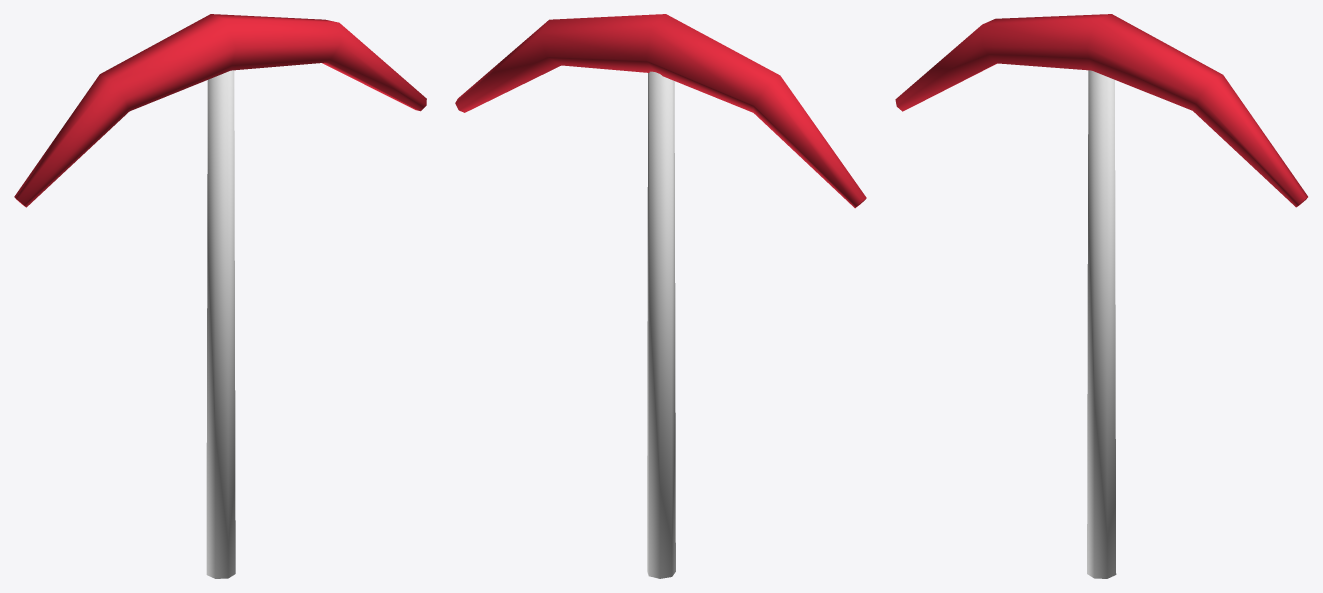
The model's file is adamantite_pickaxe.glb.
The picture shows the model from 3 angles, left to right: view 1: azimuth 30°, elevation 25°; view 2: azimuth 150°, elevation 25°; view 3: azimuth 330°, elevation 25°; orthographic projection.
Parts seen in each view (by area): view 1: adamantite_pickaxe_v0; view 2: adamantite_pickaxe_v0; view 3: adamantite_pickaxe_v0.
Boxes of the visible parts, x1,y1,x2,y2 form: adamantite_pickaxe_v0: [14, 14, 426, 578]; adamantite_pickaxe_v0: [455, 14, 866, 578]; adamantite_pickaxe_v0: [895, 14, 1307, 578].
Bounding box in the file's own units: 0.6949 × 0.9026 × 0.0883.
